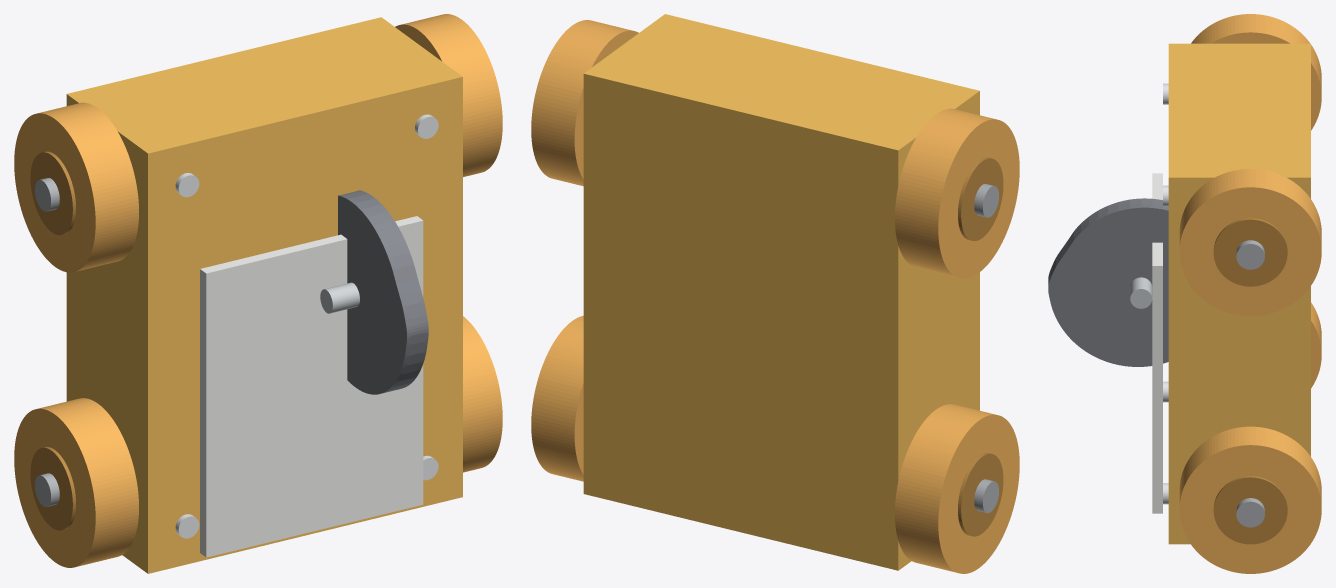
The model's file is surprisefuthermucker.glb.
3 renders of one model, left to right at view 1: azimuth 30°, elevation 25°; view 2: azimuth 150°, elevation 25°; view 3: azimuth 270°, elevation 25°, orthographic. The views are drawn at different scales.
Visible parts, largest first — view 1: chassis, lid, wheel_r0, wheel_r1, weapon, wheel_l1, wheel_l0, dt_hub_wheel_r1, dt_hub_wheel_r0, dt_shaft_weapon, dt_nut_wheel_r0, dt_nut_wheel_r1; view 2: chassis, wheel_r0, wheel_r1, wheel_l1, wheel_l0, dt_hub_wheel_r1, dt_hub_wheel_r0, dt_nut_wheel_r0, dt_nut_wheel_r1; view 3: chassis, weapon, wheel_l0, wheel_l1, dt_hub_wheel_l1, dt_hub_wheel_l0, wheel_r1, lid, wheel_r0, dt_nut_wheel_l0, dt_nut_wheel_l1, dt_shaft_weapon.
Boxes of the visible parts, left/top/right/bottom form: chassis: left=66, top=17, right=462, bottom=573; lid: left=200, top=216, right=423, bottom=557; wheel_r0: left=14, top=398, right=138, bottom=567; wheel_r1: left=14, top=102, right=138, bottom=272; weapon: left=338, top=190, right=428, bottom=394; wheel_l1: left=395, top=14, right=502, bottom=176; wheel_l0: left=463, top=316, right=502, bottom=472; dt_hub_wheel_r1: left=30, top=151, right=75, bottom=234; dt_hub_wheel_r0: left=30, top=447, right=75, bottom=530; dt_shaft_weapon: left=320, top=282, right=359, bottom=313; dt_nut_wheel_r0: left=35, top=473, right=59, bottom=507; dt_nut_wheel_r1: left=35, top=178, right=59, bottom=211; chassis: left=583, top=14, right=979, bottom=570; wheel_r0: left=895, top=404, right=1019, bottom=573; wheel_r1: left=895, top=108, right=1019, bottom=278; wheel_l1: left=531, top=20, right=638, bottom=186; wheel_l0: left=531, top=315, right=583, bottom=481; dt_hub_wheel_r1: left=958, top=157, right=1003, bottom=240; dt_hub_wheel_r0: left=958, top=453, right=1003, bottom=536; dt_nut_wheel_r0: left=974, top=479, right=998, bottom=513; dt_nut_wheel_r1: left=974, top=184, right=998, bottom=217; chassis: left=1168, top=43, right=1310, bottom=544; weapon: left=1048, top=198, right=1168, bottom=366; wheel_l0: left=1179, top=426, right=1321, bottom=573; wheel_l1: left=1179, top=169, right=1321, bottom=316; dt_hub_wheel_l1: left=1213, top=218, right=1287, bottom=286; dt_hub_wheel_l0: left=1213, top=476, right=1287, bottom=544; wheel_r1: left=1191, top=14, right=1321, bottom=130; lid: left=1152, top=173, right=1162, bottom=513; wheel_r0: left=1311, top=302, right=1321, bottom=388; dt_nut_wheel_l0: left=1236, top=498, right=1264, bottom=527; dt_nut_wheel_l1: left=1236, top=240, right=1264, bottom=269; dt_shaft_weapon: left=1130, top=277, right=1152, bottom=308.
Size of the model in its own units: 79.4 by 77.99 by 50.01.
